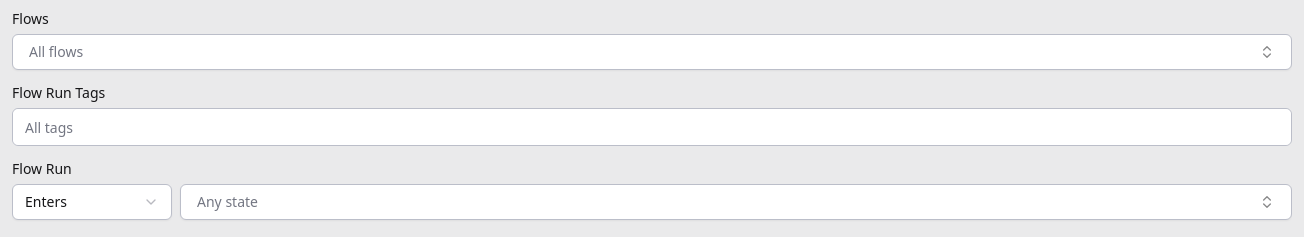
FlowRunStateTriggerFields › can add a tag using the tags input
In the field with placeholder "All tags": coordinates (652, 127) [13, 109, 1291, 145], type "new-tag"
Then press Enter
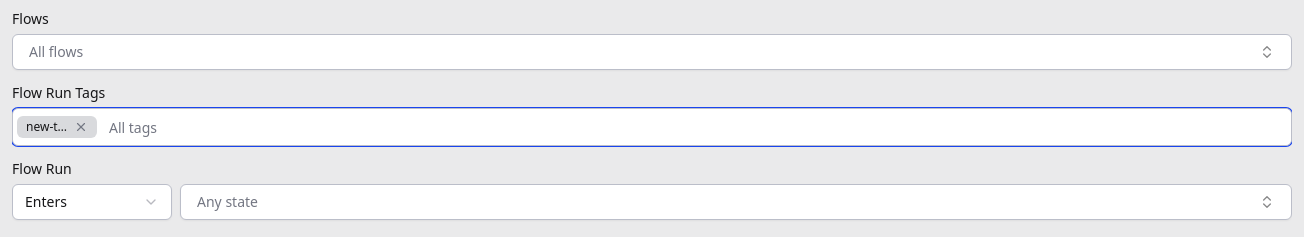
Now the text "new-tag" is shown, box [26, 119, 70, 135]
